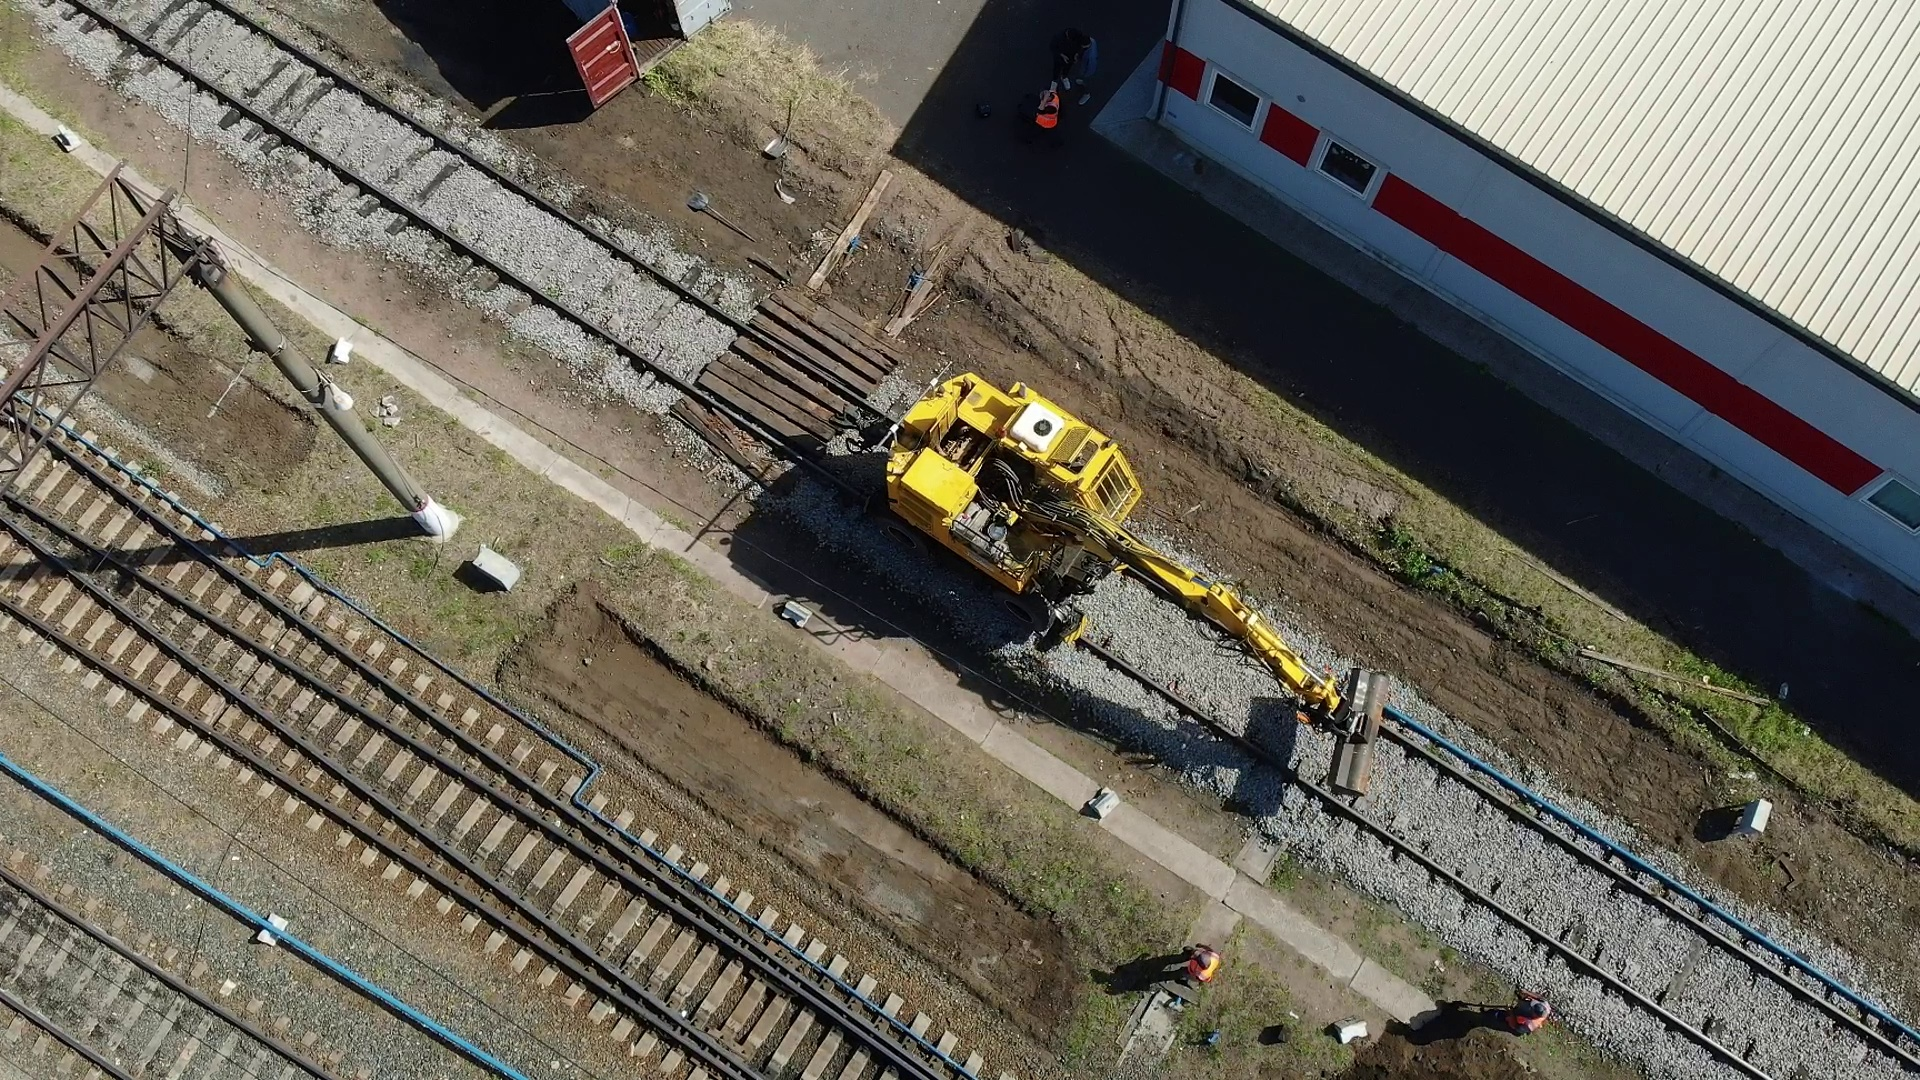kjtv: (853, 368, 1204, 611)
